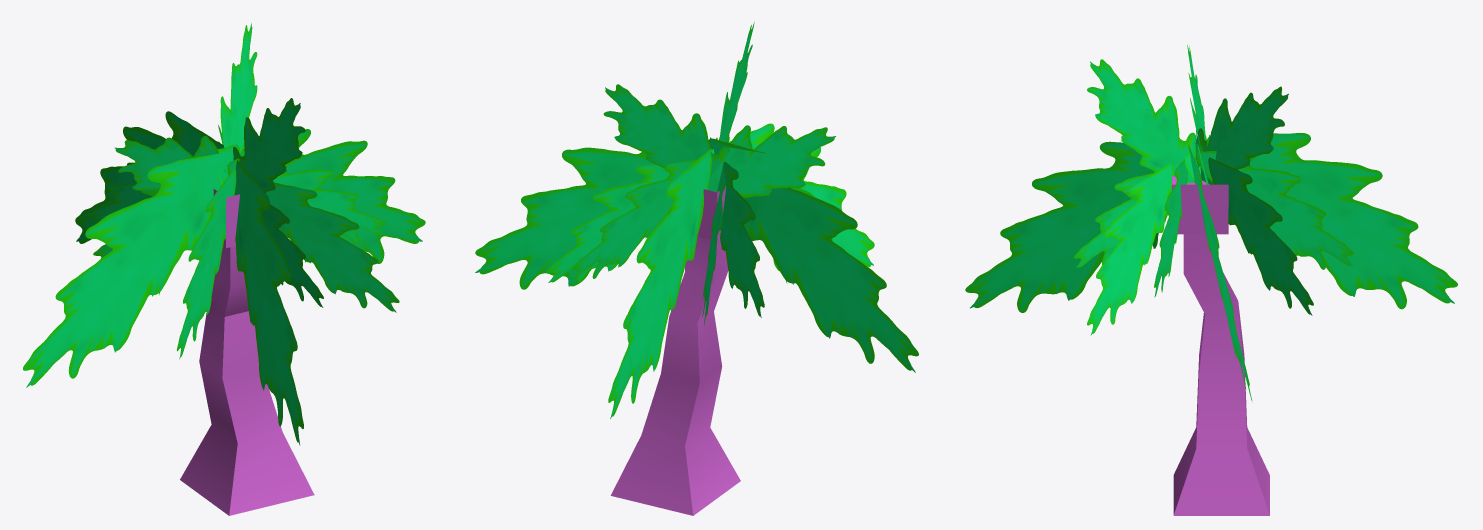
File: Tree.fbx
The picture shows the model from 3 angles, left to right: view 1: azimuth 30°, elevation 25°; view 2: azimuth 150°, elevation 25°; view 3: azimuth 270°, elevation 25°; orthographic projection. The views are drawn at different scales.
Parts seen in each view (by area): view 1: pCube20; view 2: pCube20; view 3: pCube20.
Boxes of the visible parts, x1=… form: pCube20: x1=23, y1=23, x2=425, y2=515; pCube20: x1=475, y1=21, x2=918, y2=515; pCube20: x1=965, y1=45, x2=1457, y2=515.
Bounding box in the file's own units: 7.99 × 7.54 × 8.06.
